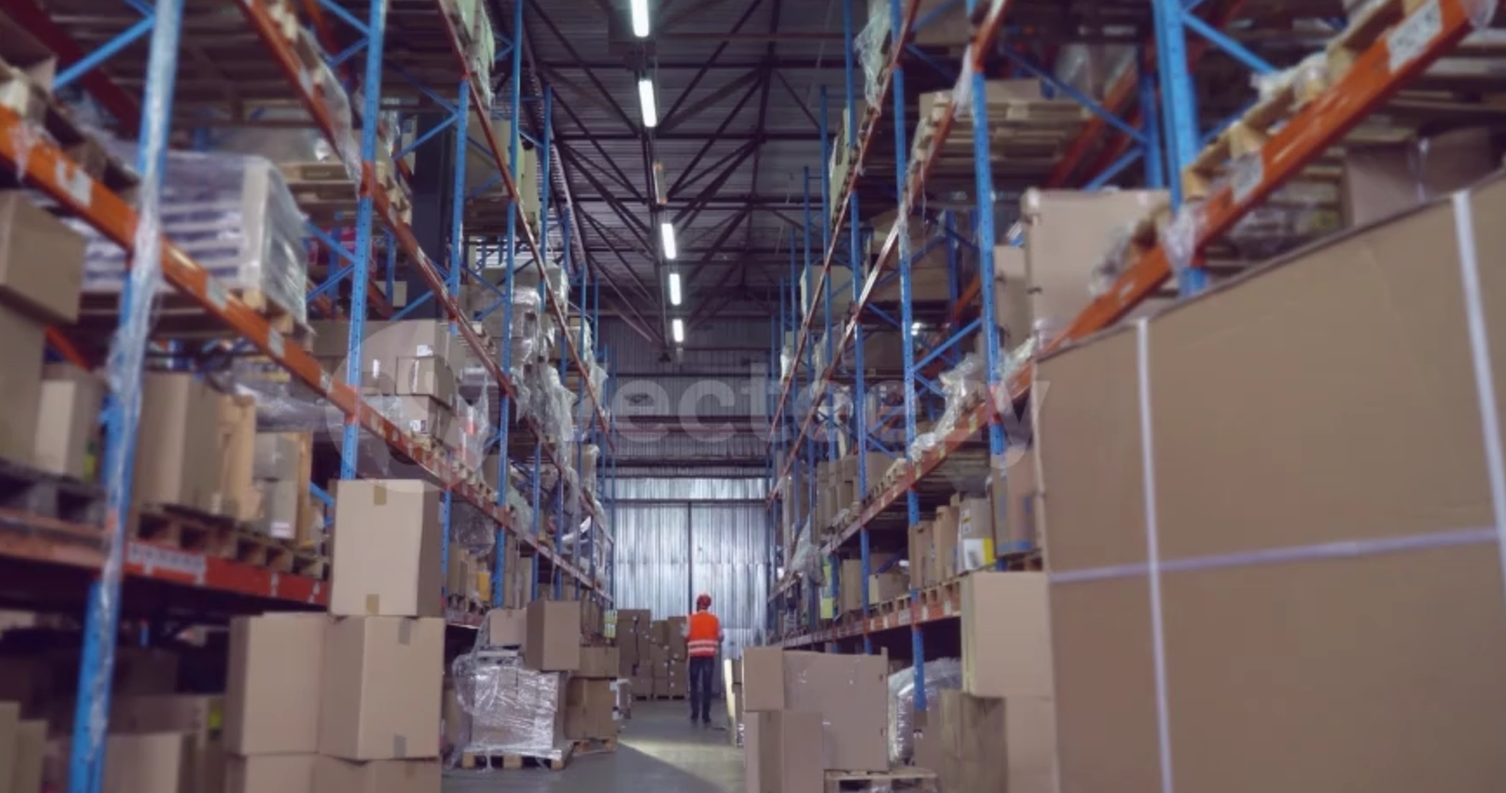safety_helmet: (696, 593, 712, 608)
